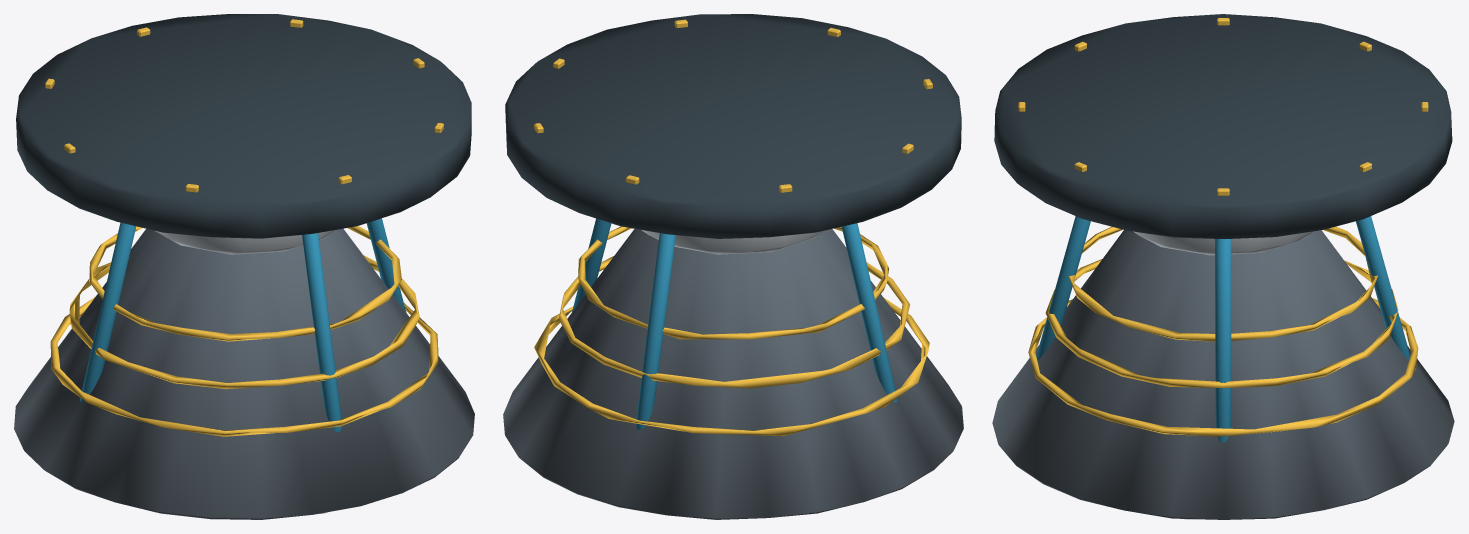
File: perilune-ember-engine.glb
3 renders of one model, left to right at view 1: azimuth 30°, elevation 25°; view 2: azimuth 150°, elevation 25°; view 3: azimuth 270°, elevation 25°, orthographic.
Visible parts, largest first — view 1: SM_Engine_Ember_Bell, SM_Engine_Ember_Mount, SM_Engine_Ember_BellBand_24, SM_Engine_Ember_BellBand_13, SM_Engine_Ember_BellBand_02, SM_Engine_Ember_Coolant_01, SM_Engine_Ember_Coolant_04, SM_Engine_Ember_Chamber, SM_Engine_Ember_Coolant_02; view 2: SM_Engine_Ember_Bell, SM_Engine_Ember_Mount, SM_Engine_Ember_BellBand_13, SM_Engine_Ember_BellBand_24, SM_Engine_Ember_Coolant_03, SM_Engine_Ember_BellBand_02, SM_Engine_Ember_Coolant_04, SM_Engine_Ember_Chamber, SM_Engine_Ember_Coolant_02; view 3: SM_Engine_Ember_Bell, SM_Engine_Ember_Mount, SM_Engine_Ember_BellBand_24, SM_Engine_Ember_BellBand_13, SM_Engine_Ember_Coolant_02, SM_Engine_Ember_BellBand_02, SM_Engine_Ember_Coolant_03, SM_Engine_Ember_Coolant_01, SM_Engine_Ember_Chamber.
Part boxes in pixels (<box>): SM_Engine_Ember_Bell: <box>14,228,474,519</box>; SM_Engine_Ember_Mount: <box>16,14,471,238</box>; SM_Engine_Ember_BellBand_24: <box>50,296,438,436</box>; SM_Engine_Ember_BellBand_13: <box>69,255,419,389</box>; SM_Engine_Ember_BellBand_02: <box>89,226,401,341</box>; SM_Engine_Ember_Coolant_01: <box>302,233,341,431</box>; SM_Engine_Ember_Coolant_04: <box>80,222,136,402</box>; SM_Engine_Ember_Chamber: <box>155,230,334,254</box>; SM_Engine_Ember_Coolant_02: <box>366,218,406,312</box>; SM_Engine_Ember_Bell: <box>503,229,963,519</box>; SM_Engine_Ember_Mount: <box>505,14,961,238</box>; SM_Engine_Ember_BellBand_13: <box>559,256,910,388</box>; SM_Engine_Ember_BellBand_24: <box>534,297,929,436</box>; SM_Engine_Ember_Coolant_03: <box>636,233,675,429</box>; SM_Engine_Ember_BellBand_02: <box>578,226,888,339</box>; SM_Engine_Ember_Coolant_04: <box>841,223,897,402</box>; SM_Engine_Ember_Chamber: <box>641,230,823,254</box>; SM_Engine_Ember_Coolant_02: <box>572,218,611,311</box>; SM_Engine_Ember_Bell: <box>992,230,1454,519</box>; SM_Engine_Ember_Mount: <box>994,14,1452,238</box>; SM_Engine_Ember_BellBand_24: <box>1028,298,1418,436</box>; SM_Engine_Ember_BellBand_13: <box>1045,259,1398,388</box>; SM_Engine_Ember_Coolant_02: <box>1215,239,1231,442</box>; SM_Engine_Ember_BellBand_02: <box>1068,226,1377,341</box>; SM_Engine_Ember_Coolant_03: <box>1356,216,1410,360</box>; SM_Engine_Ember_Coolant_01: <box>1036,216,1090,360</box>; SM_Engine_Ember_Chamber: <box>1133,231,1314,255</box>.
Size of the model in its own units: 1.17 by 0.9168 by 1.17.
